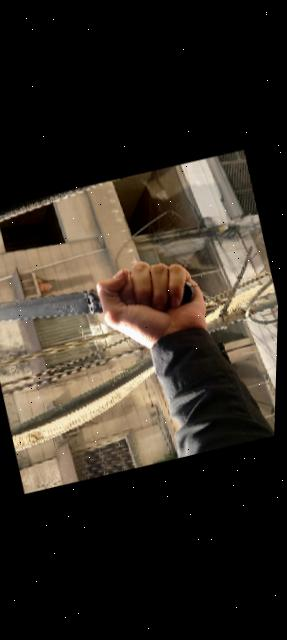long knife: (0, 251, 202, 357)
